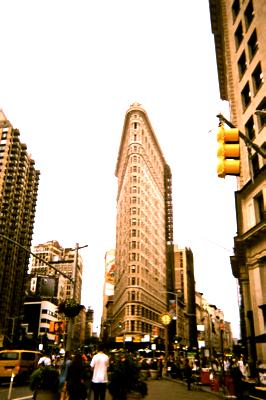International Road Signal Light: (216, 125, 242, 180)
